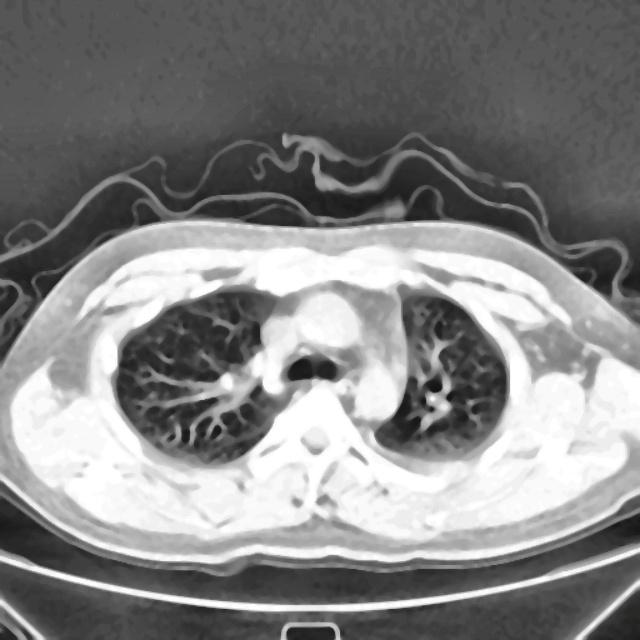covid: (3, 217, 638, 572)
